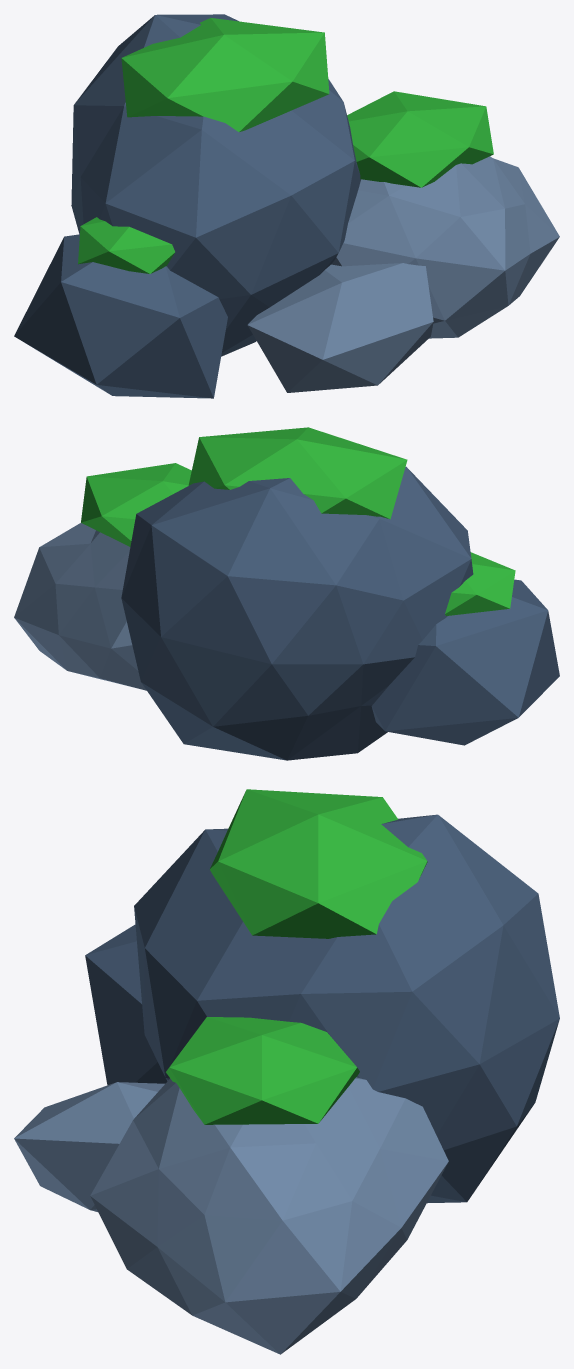
The model's file is rock_cluster.glb.
The picture shows the model from 3 angles, top to bottom: view 1: azimuth 30°, elevation 25°; view 2: azimuth 150°, elevation 25°; view 3: azimuth 270°, elevation 25°; orthographic projection. The views are drawn at different scales.
Parts seen in each view (by area): view 1: Boulders; view 2: Boulders; view 3: Boulders.
Boxes of the visible parts, x1,y1,x2,y2 form: Boulders: [14, 14, 559, 398]; Boulders: [14, 427, 559, 760]; Boulders: [14, 789, 559, 1354].
Bounding box in the file's own units: 2.9 × 1.7 × 2.13.
